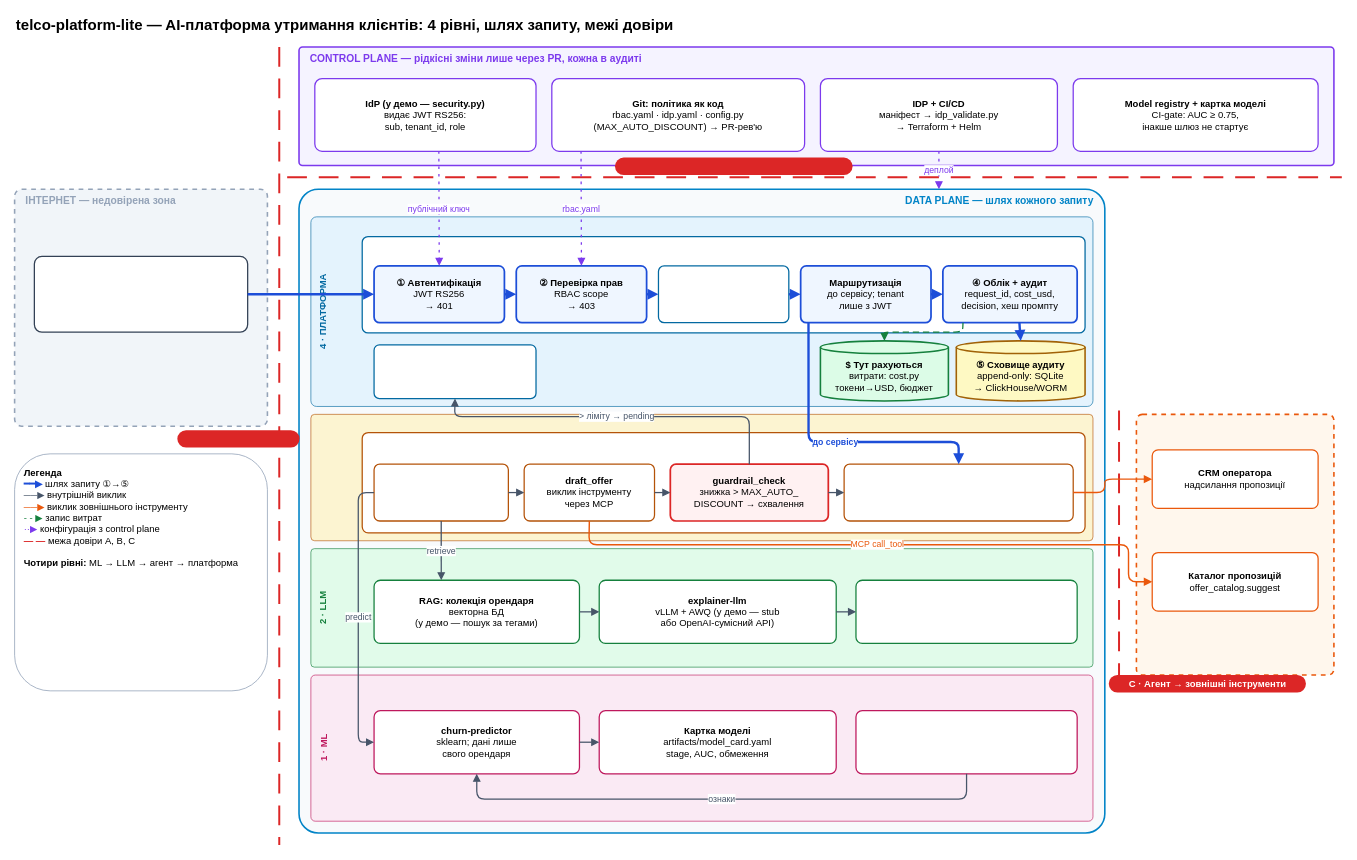
Image size: 1357x860. Some labels were removed from this diagram. The shapes that lost their labels are listed below. From the top down, each one's box as (x1, y1, x2, y2) in pixels, then its label:
(615, 157, 852, 175): B · Control → data plane (лише читання)
(33, 255, 248, 332): Клієнт менеджер утримання в CRM UI орендар telco-crm HTTPS + Bearer JWT
(361, 236, 1085, 333): API-шлюз (gateway.py) — один middleware, кроки по черзі
(657, 265, 789, 323): Rate limit token bucket на орендаря → 429
(373, 344, 536, 399): Черга схвалень human-in-the-loop (лише admin)
(177, 430, 299, 447): A · Інтернет → шлюз
(373, 463, 509, 521): Оркестратор predict → retrieve → explain
(310, 414, 1093, 541): 3 · АГЕНТ
(361, 431, 1085, 533): ③ Сервіс: агент утримання (agent.py)
(843, 463, 1073, 521): send_offer / human_approval status: offer_sent або pending_approval
(1135, 413, 1334, 675): ЗОВНІШНІ ІНСТРУМЕНТИ (MCP)
(855, 579, 1077, 644): Перевірка faithfulness RAGAS (у демо — лексичний проксі) → low_confidence
(855, 710, 1077, 774): Дані / ознаки орендаря telco-crm · telco-b2b · telco-trial (ізольовані)
